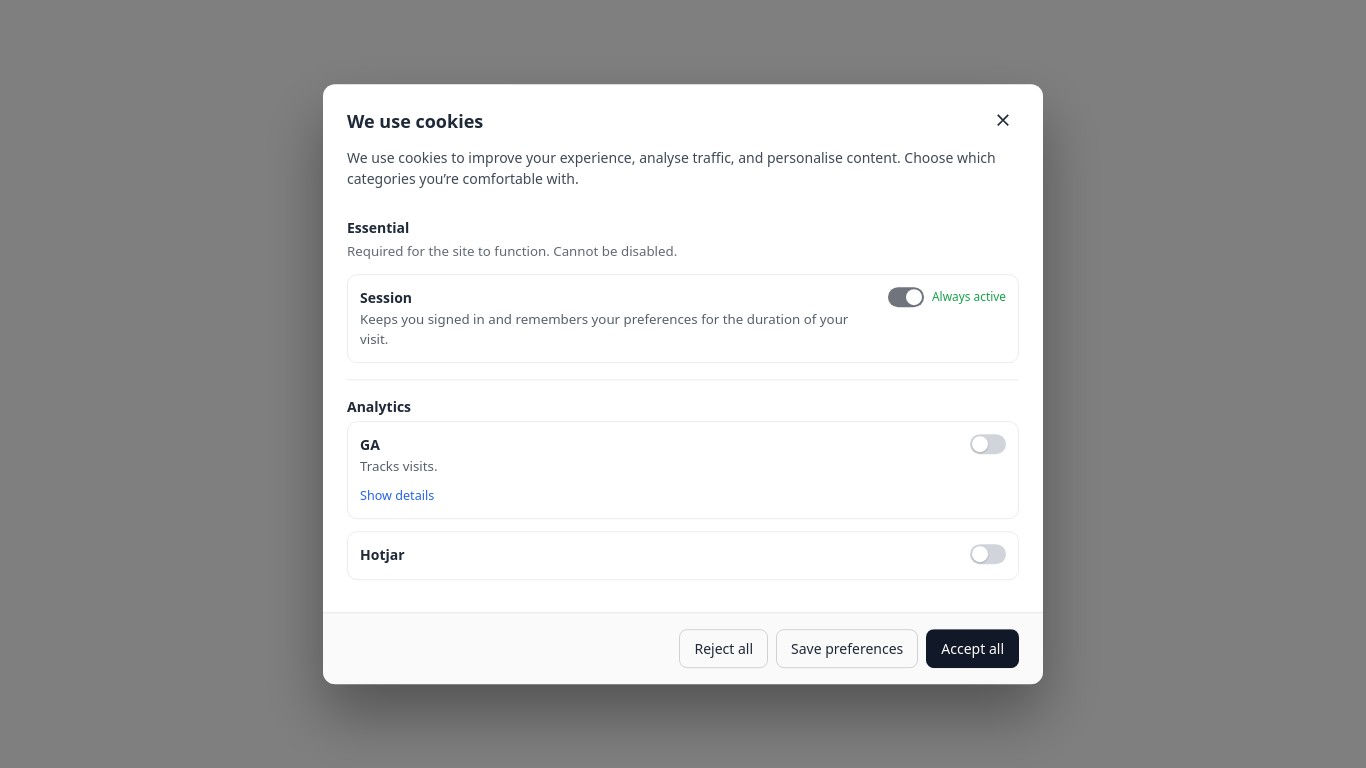
Test case: ConsentModalComponent › renders the cookie-details table only after the details toggle is clicked
Click the button "Show details" at (397, 496), box [360,487,434,506]
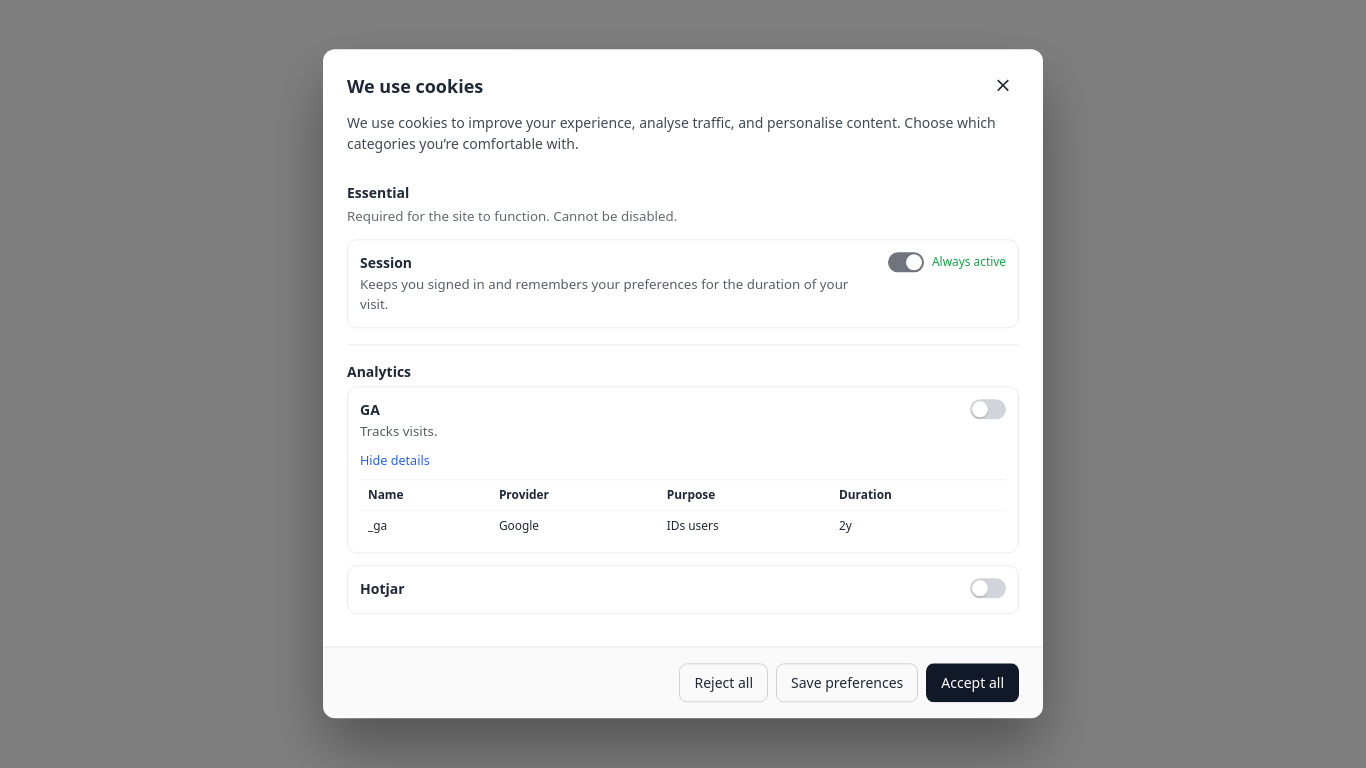
Check: the table is shown, box [360,479,1006,541]
Check: the table shows "_ga", box [368,517,387,533]
Check: the table shows "Google", box [499,517,539,533]
